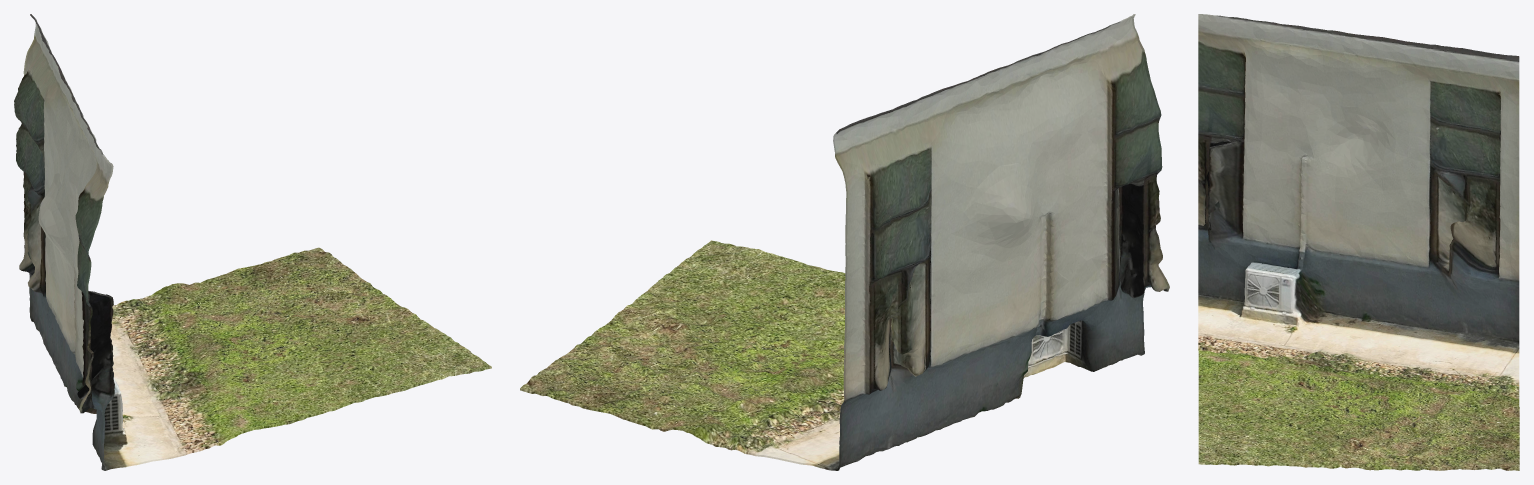
The picture shows the model from 3 angles, left to right: view 1: azimuth 30°, elevation 25°; view 2: azimuth 150°, elevation 25°; view 3: azimuth 270°, elevation 25°; orthographic projection. The views are drawn at different scales.
Visible parts, largest first — view 1: node_201; view 2: node_201; view 3: node_201.
Part boxes in pixels (x1,y1,x2,y2): node_201: (14,14,491,470); node_201: (520,14,1169,470); node_201: (1198,14,1519,470).
Bounding box in the file's own units: 7.58 × 5.5 × 5.5.
Materials: 1 (1 with a texture image).
